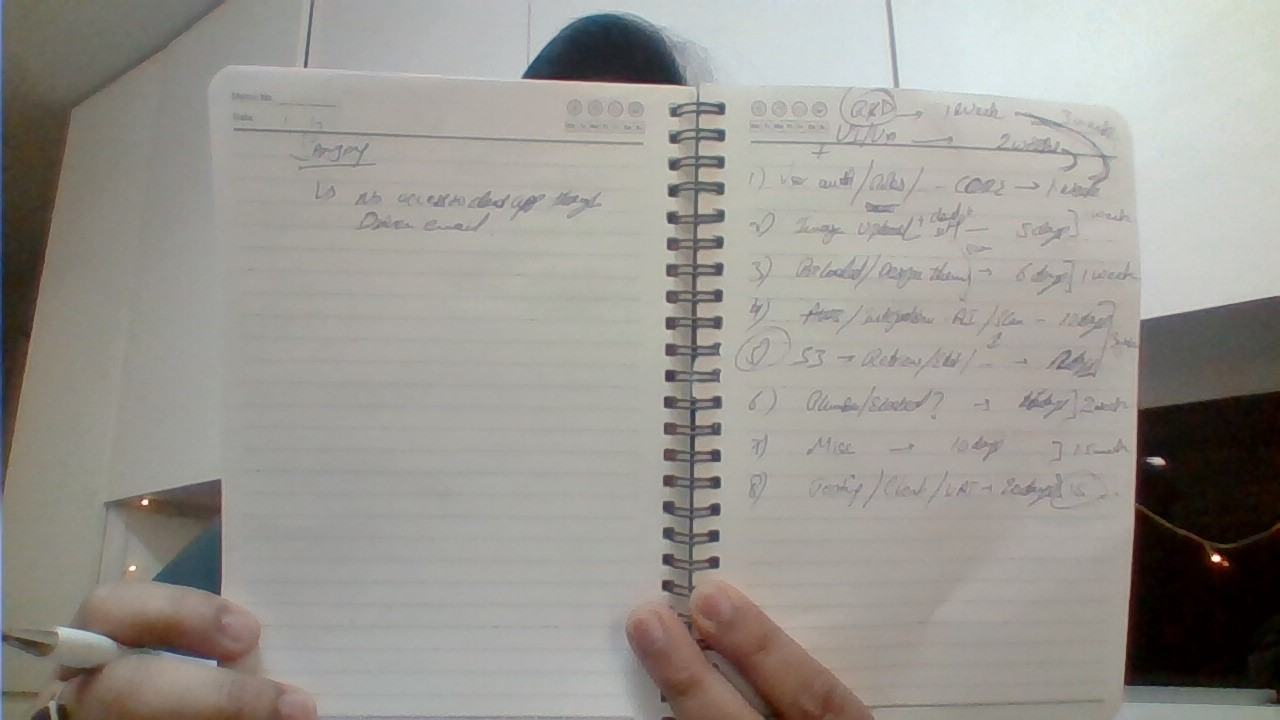notebook: (206, 57, 708, 720), (693, 64, 1144, 720)
